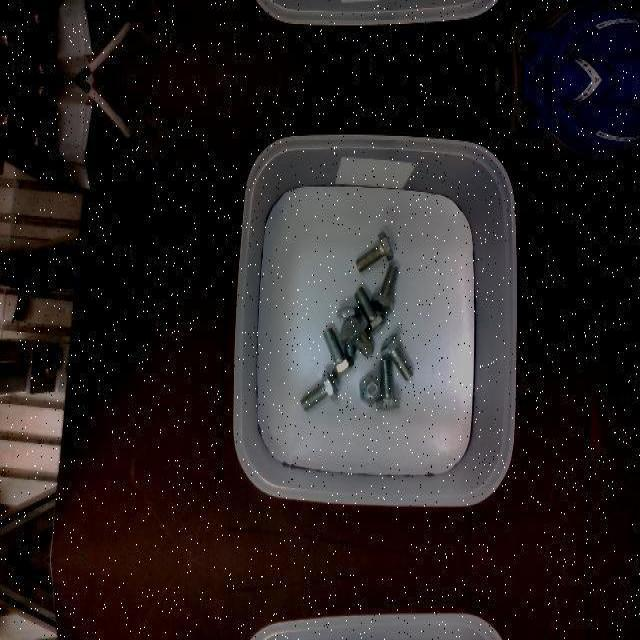screw: (379, 331, 413, 381), (354, 285, 386, 335), (323, 326, 353, 378), (355, 231, 393, 271), (300, 371, 338, 411), (339, 315, 373, 357), (371, 263, 398, 313), (376, 358, 400, 410), (360, 374, 381, 406)
